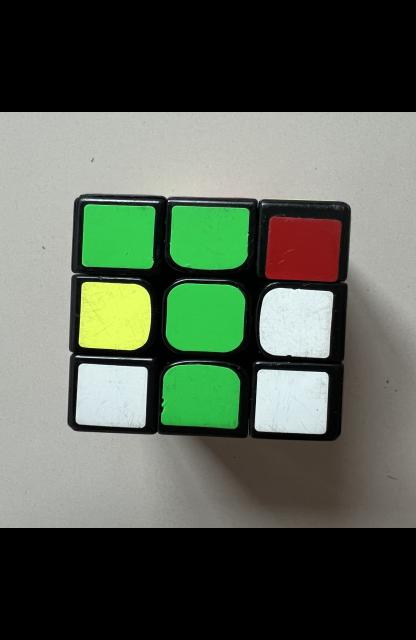Green: (164, 283, 244, 352), (169, 206, 249, 270), (160, 364, 239, 428), (80, 204, 154, 269)
Red: (264, 216, 340, 282)
White: (258, 288, 333, 358), (74, 363, 147, 428), (254, 370, 328, 434)
Yellow: (78, 282, 150, 350)
